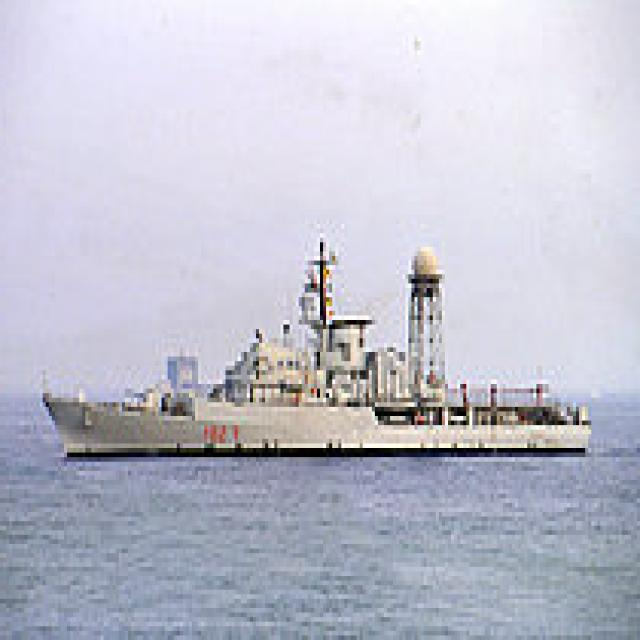Warship: (40, 233, 594, 462)
